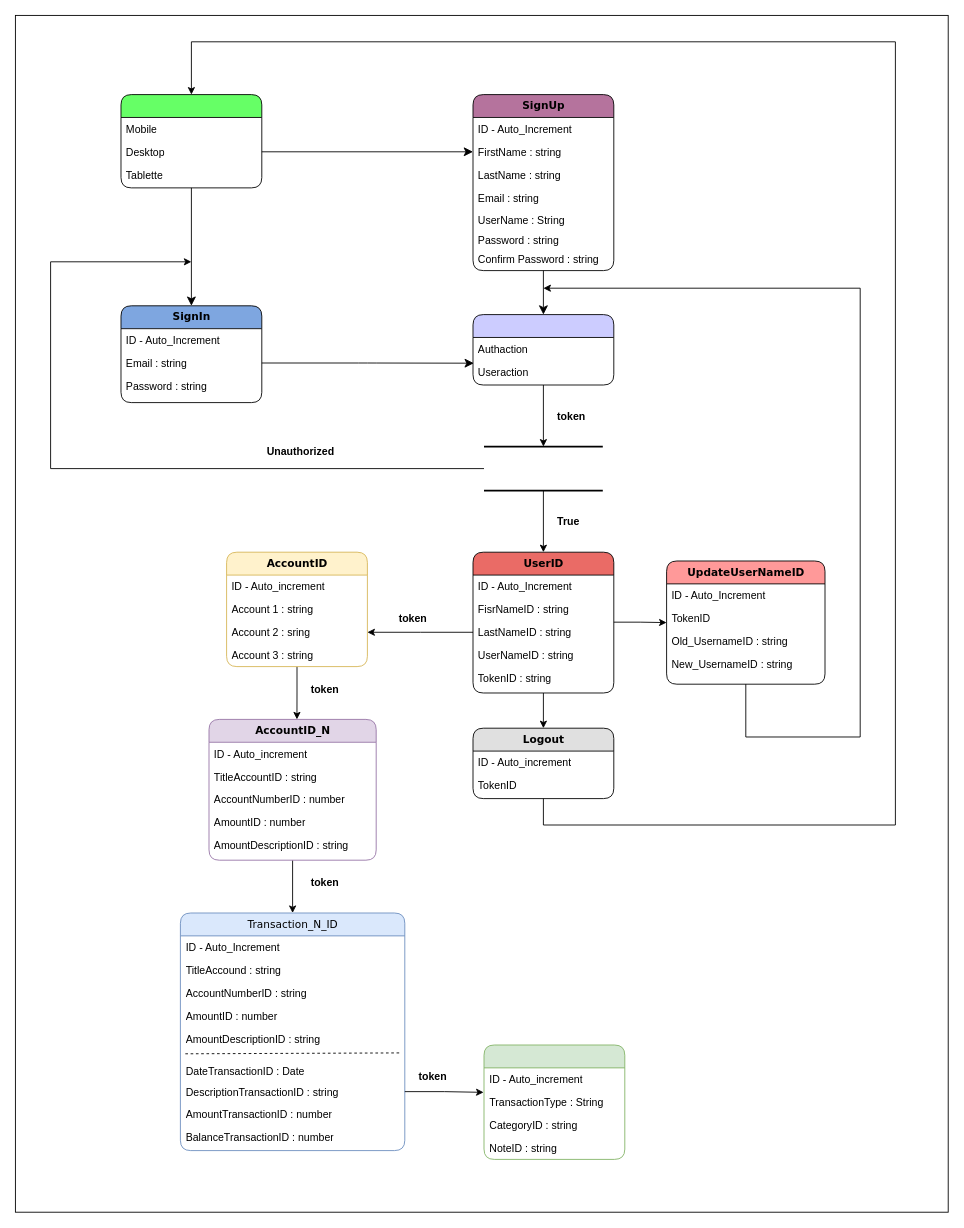
Image size: 964x1228. Some labels were removed from this diagram. The shapes that lost their labels are listed below. From the top down, each one's box as (x1, y1, x2, y2) in pixels, then its label:
(120, 94, 262, 188): User
(472, 314, 614, 385): Store
(483, 445, 603, 491): Authorization
(483, 1044, 625, 1159): DetailsTransactionID
